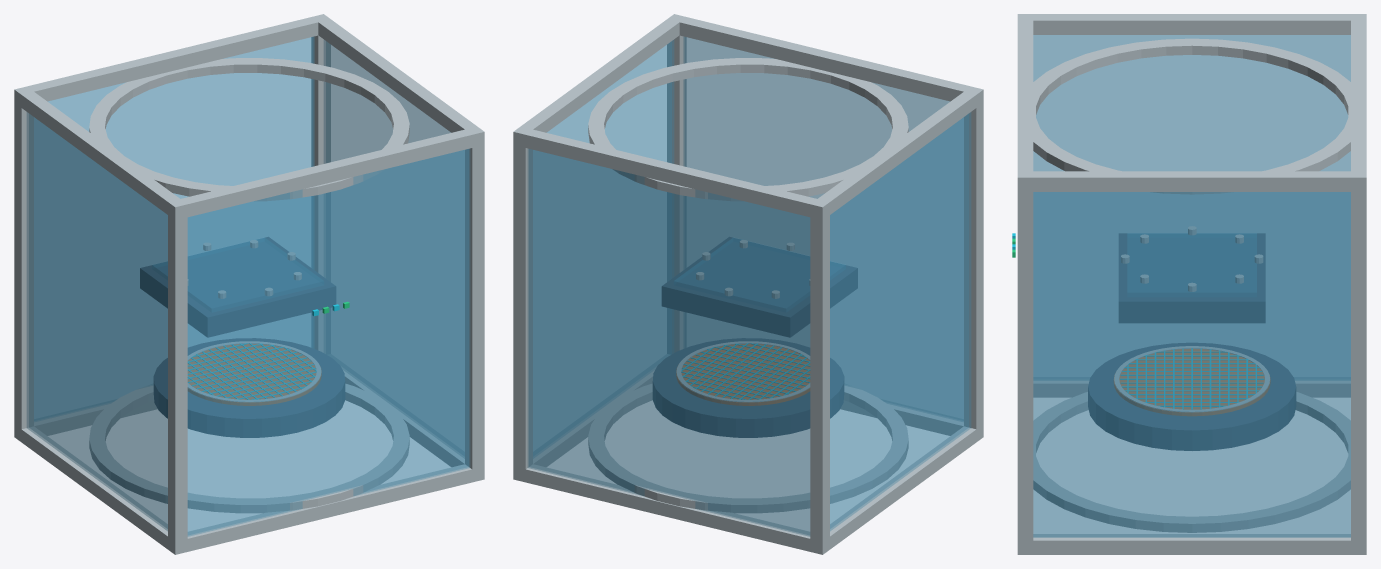
File: 11_L79_PrecisionWaferLoadLock.fbx
3 views of the same model, side by side, from view 1: azimuth 30°, elevation 25°; view 2: azimuth 150°, elevation 25°; view 3: azimuth 270°, elevation 25° (orthographic). The views are drawn at different scales.
Parts seen in each view (by area): view 1: PrecisionWaferLoadLock, PrecisionWaferLoadLock_Part_0051, PrecisionWaferLoadLock_Part_0052; view 2: PrecisionWaferLoadLock, PrecisionWaferLoadLock_Part_0051, PrecisionWaferLoadLock_Part_0052; view 3: PrecisionWaferLoadLock, PrecisionWaferLoadLock_Part_0051, PrecisionWaferLoadLock_Part_0052.
Boxes of the visible parts, box(x1,y1,x2,y2) form: PrecisionWaferLoadLock: box(14, 14, 484, 554); PrecisionWaferLoadLock_Part_0051: box(140, 237, 335, 337); PrecisionWaferLoadLock_Part_0052: box(152, 238, 323, 284); PrecisionWaferLoadLock: box(513, 14, 983, 554); PrecisionWaferLoadLock_Part_0051: box(662, 237, 857, 337); PrecisionWaferLoadLock_Part_0052: box(674, 238, 845, 284); PrecisionWaferLoadLock: box(1012, 14, 1366, 554); PrecisionWaferLoadLock_Part_0051: box(1119, 233, 1265, 322); PrecisionWaferLoadLock_Part_0052: box(1127, 233, 1256, 237).
Bounding box in the file's own units: 272 × 292 × 249.
